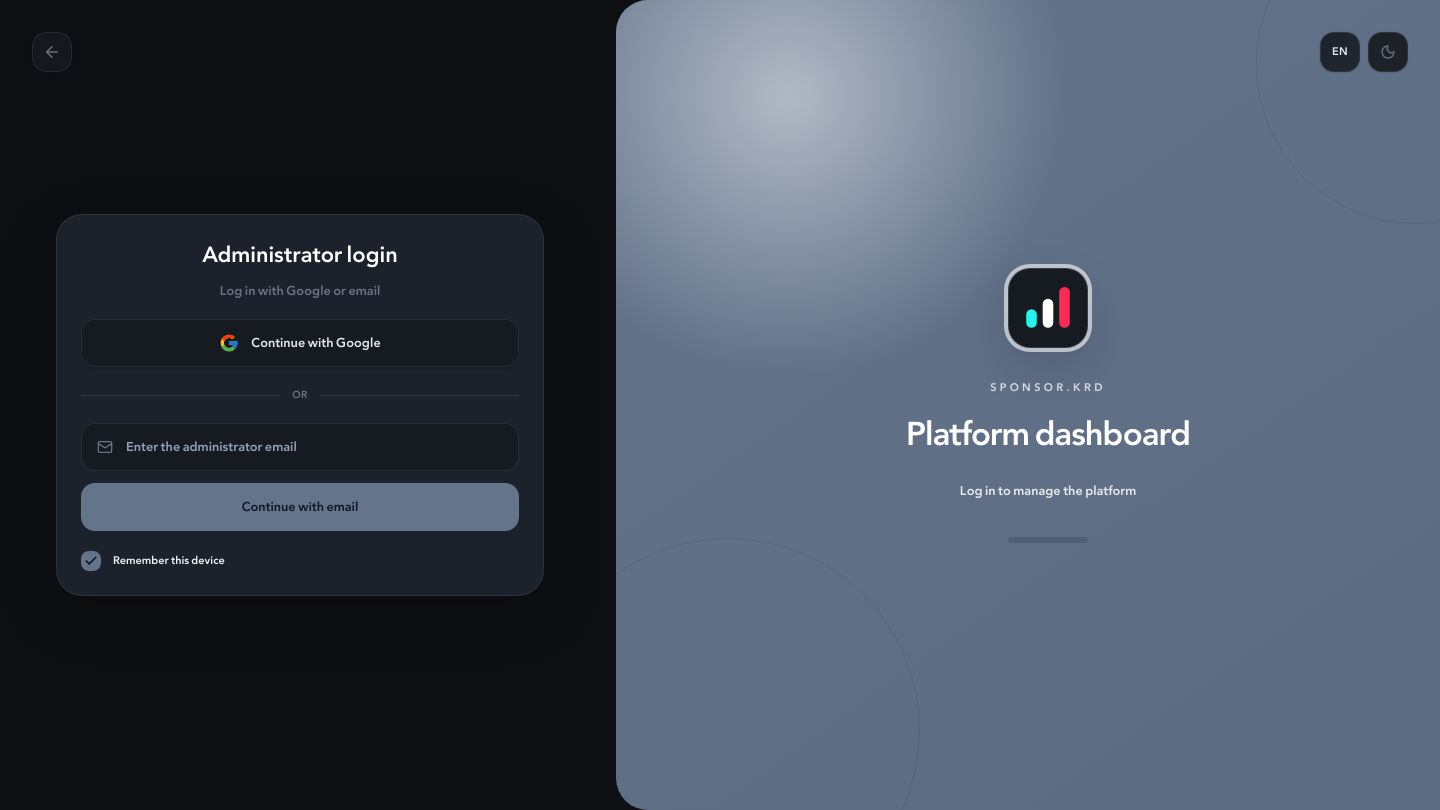
Test case: PlatformAdminLoginPage › cycles sign-in language locally without a protected preference request
Click the button with aria-label "Switch to Kurdish" at (1340, 52), box [1320,32,1360,72]
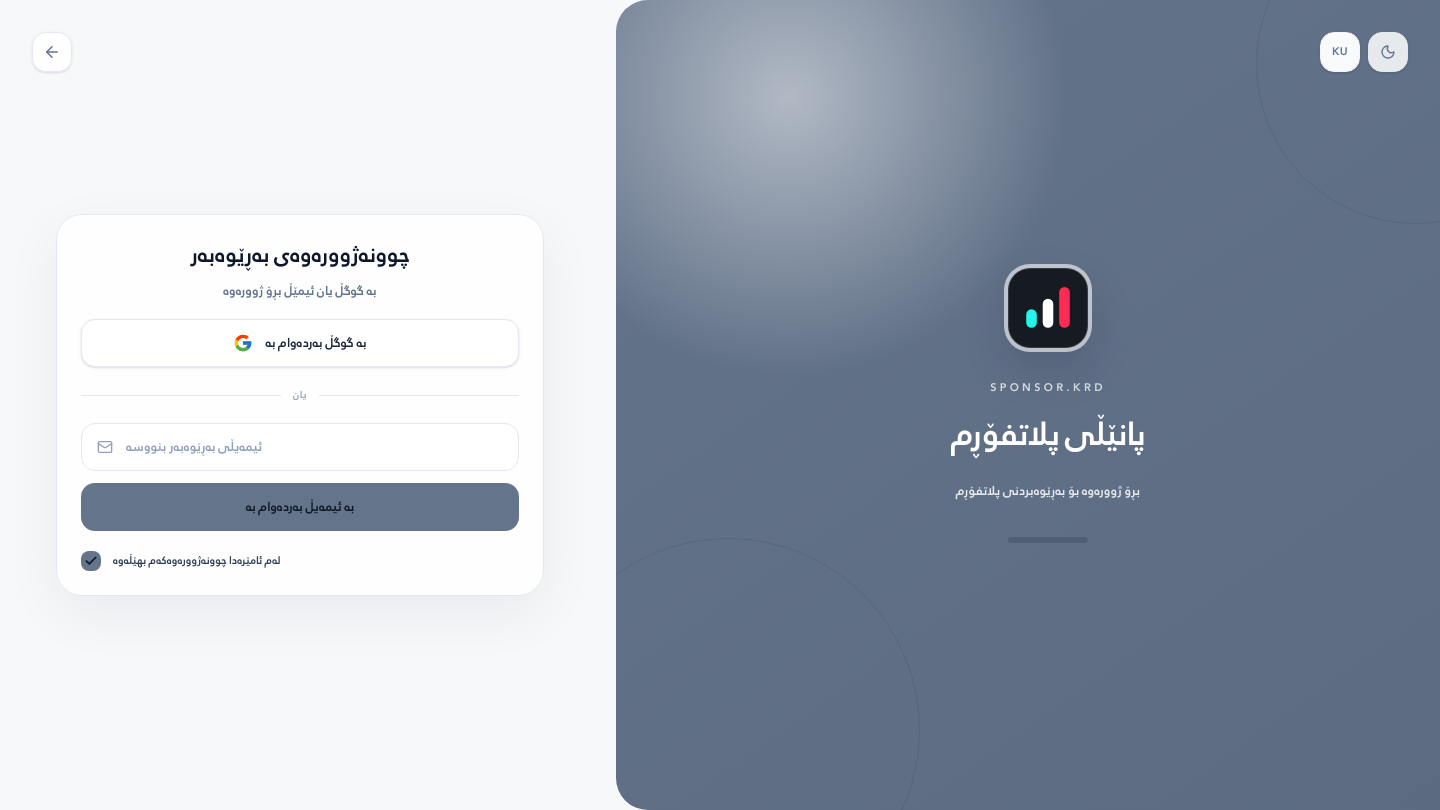
Check: the heading "چوونەژوورەوەی بەڕێوەبەر" is shown, box [190,236,410,274]
Check: the button with aria-label "گۆڕین بۆ عەرەبی" reads "KU", box [1320,32,1360,72]
